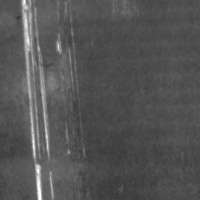scratches: (19, 1, 55, 200), (54, 28, 78, 77)
